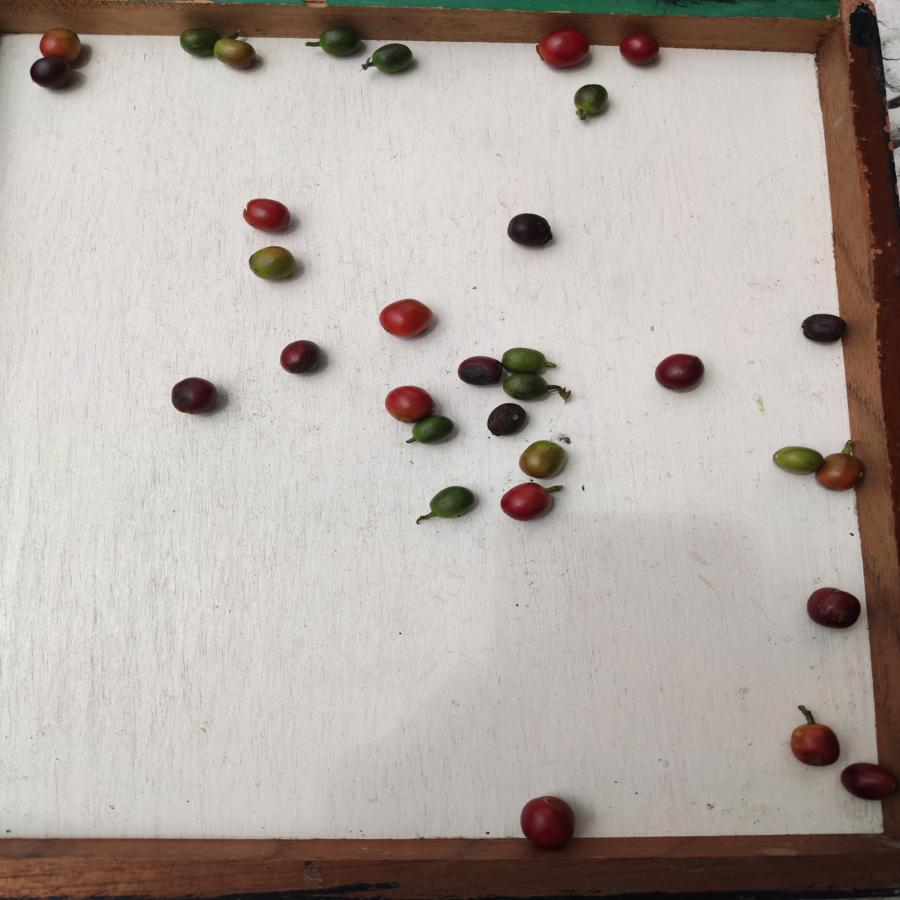Inmaduro: (424, 481, 476, 525), (369, 41, 421, 75), (173, 24, 216, 64), (318, 29, 363, 59), (505, 374, 555, 399), (503, 346, 547, 373), (575, 83, 610, 116), (415, 418, 456, 446)
Maduro: (788, 718, 843, 772), (532, 27, 596, 70), (497, 481, 557, 522), (377, 300, 437, 336), (240, 197, 297, 230), (617, 34, 661, 69), (387, 385, 436, 414)
Pinton: (245, 244, 299, 282), (770, 442, 824, 480), (520, 440, 566, 479), (819, 454, 863, 493), (213, 36, 259, 73), (37, 26, 83, 59)
Sobremaduro: (519, 794, 578, 849), (842, 759, 895, 805), (171, 371, 220, 418), (808, 587, 861, 630), (652, 351, 705, 391), (798, 312, 852, 348), (278, 339, 323, 379), (506, 213, 556, 248), (456, 354, 504, 387), (487, 401, 528, 438), (30, 58, 74, 91)
